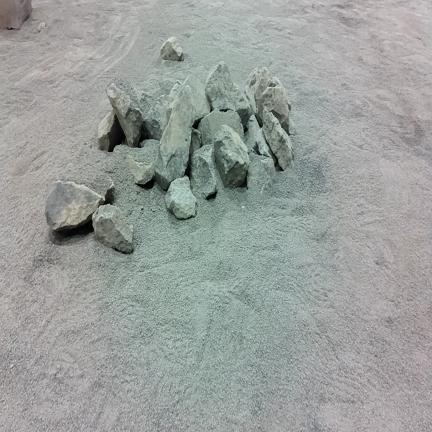Rock: (155, 86, 194, 189), (45, 182, 104, 230), (107, 83, 142, 147), (106, 140, 159, 182), (215, 125, 249, 187), (167, 75, 210, 121), (92, 205, 133, 253), (263, 110, 293, 169), (198, 110, 243, 147), (206, 62, 240, 110), (245, 116, 277, 164), (258, 86, 289, 132), (140, 93, 170, 139), (191, 145, 217, 198), (166, 176, 197, 218), (247, 153, 275, 196), (98, 110, 124, 151), (247, 67, 275, 105), (234, 84, 256, 127), (0, 0, 32, 29), (126, 155, 154, 184), (166, 80, 182, 121), (273, 77, 291, 110), (160, 37, 184, 61), (190, 128, 201, 154), (105, 179, 115, 203), (159, 79, 174, 94), (289, 117, 296, 134), (37, 22, 46, 32)
